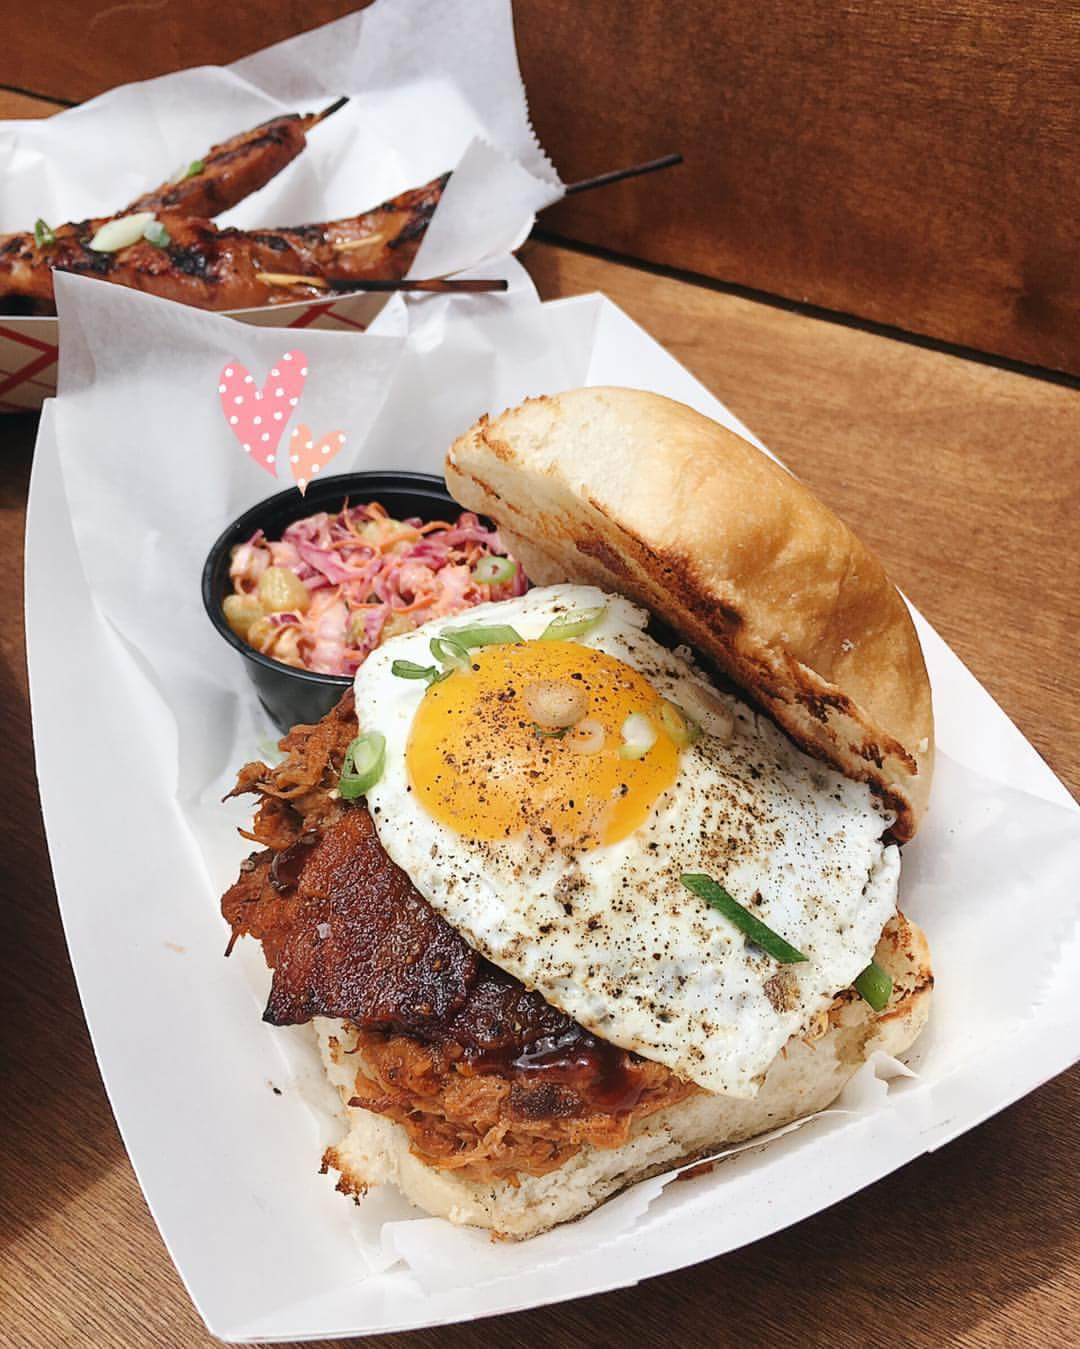fried egg: (355, 632, 858, 1017)
slice of bread: (439, 377, 935, 783), (368, 1064, 867, 1221)
